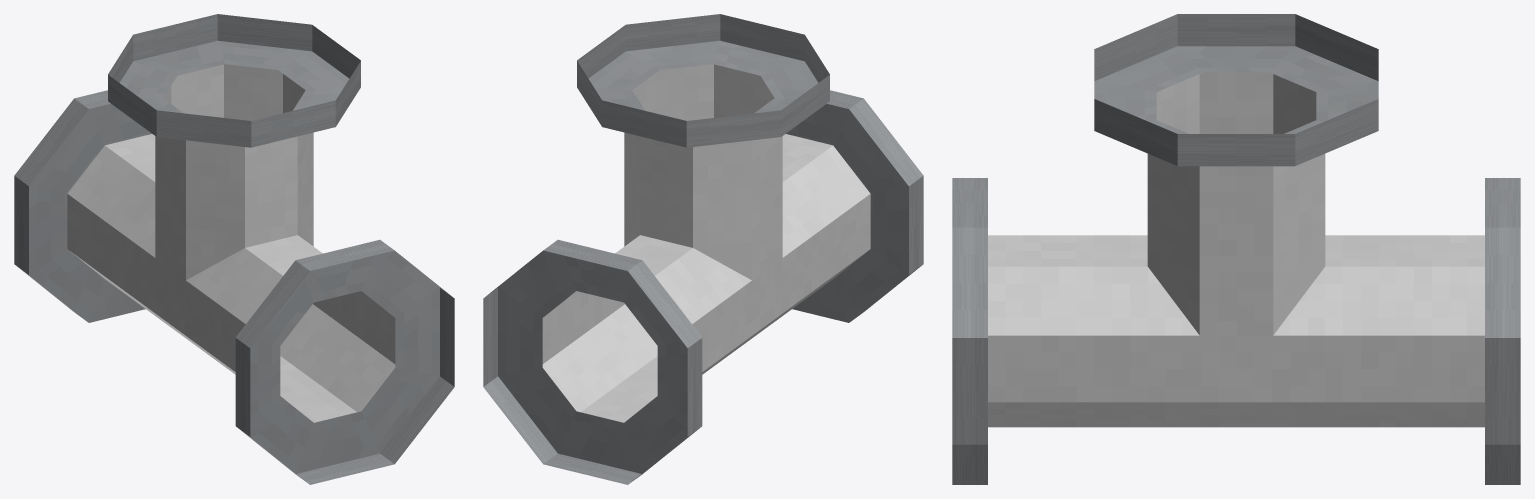
Rendered from connection_14.obj.
3 views of the same model, side by side, from view 1: azimuth 30°, elevation 25°; view 2: azimuth 150°, elevation 25°; view 3: azimuth 270°, elevation 25° (orthographic). The views are drawn at different scales.
Size of the model in its own units: 0.5 by 0.75 by 1.
